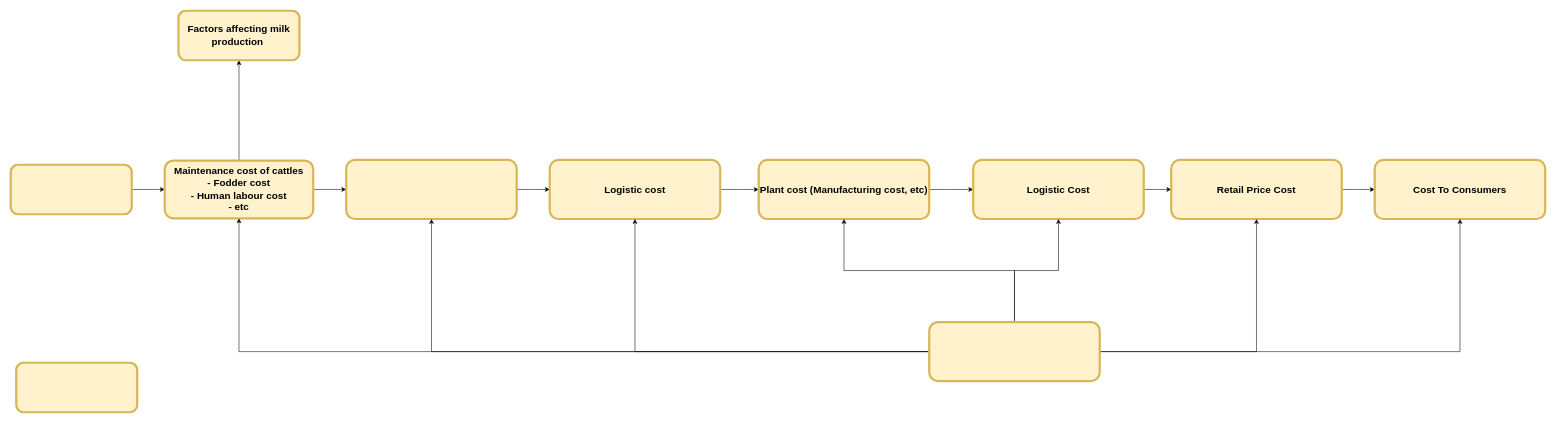
Some shapes in this 1555 by 422 pixel diagram are drawn without their labels. Here are the shapes that lost their labels. From the top down, the centre of each, then its label:
At point 71,189: "Initial investment cost".
At point 431,189: "Initial pick up and storage cost".
At point 1014,351: "Taxes".
At point 76,387: "Rapid changing Variable".
